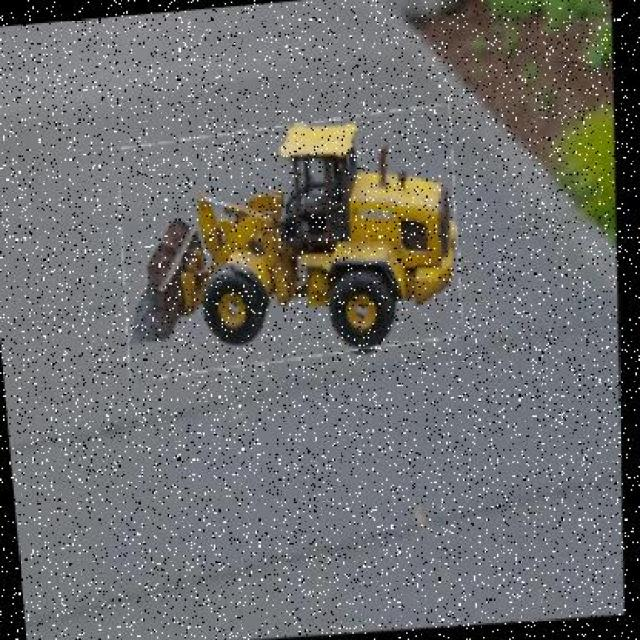buldozerpayloadergrader: (110, 114, 462, 371)
